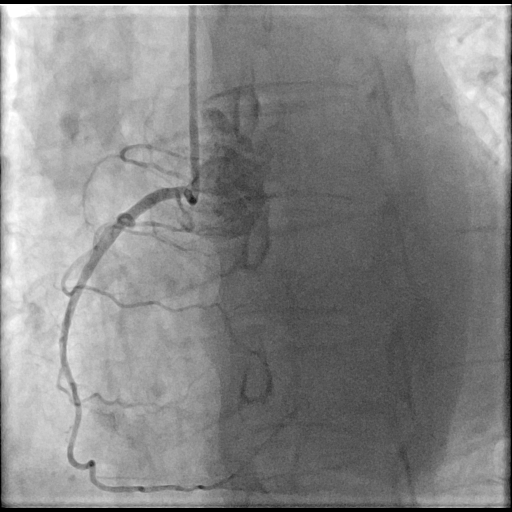RCA: (59, 186, 197, 492)
catherter: (188, 6, 199, 200)
